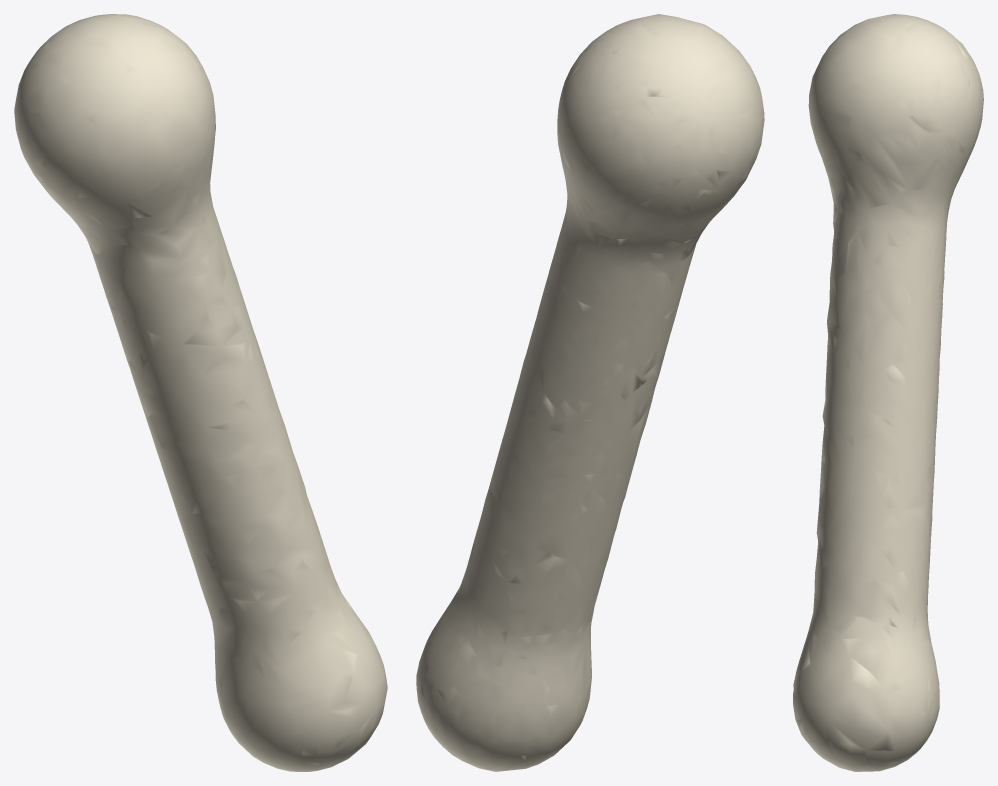
The model's file is tibia_r.glb.
3 views of the same model, side by side, from view 1: azimuth 30°, elevation 25°; view 2: azimuth 150°, elevation 25°; view 3: azimuth 270°, elevation 25° (orthographic). The views are drawn at different scales.
Visible parts, largest first — view 1: geometry_0; view 2: geometry_0; view 3: geometry_0.
Boxes of the visible parts, x1=… form: geometry_0: x1=14, y1=14, x2=387, y2=771; geometry_0: x1=416, y1=14, x2=764, y2=771; geometry_0: x1=793, y1=14, x2=983, y2=771.
Bounding box in the file's own units: 0.33 × 0.7339 × 0.1895.
